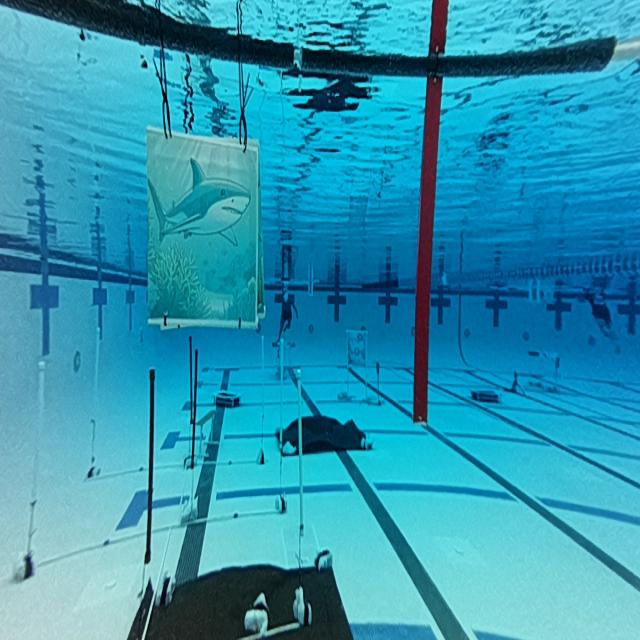round_nose: (147, 130, 261, 329)
